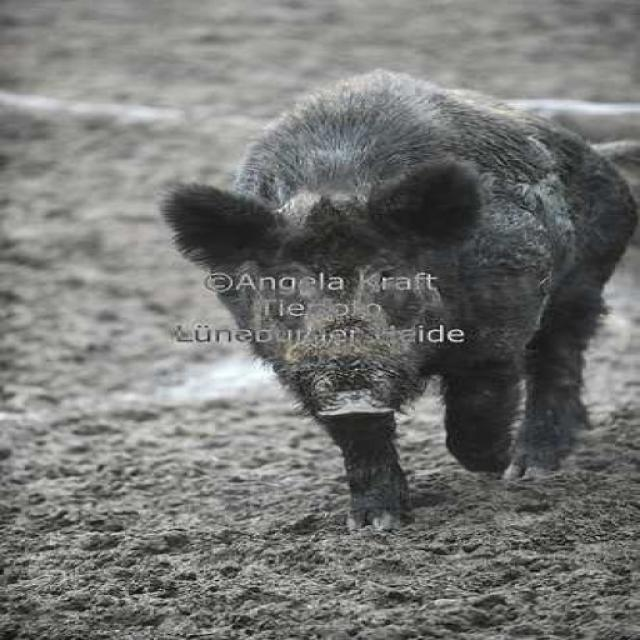pig: (179, 63, 600, 541)
